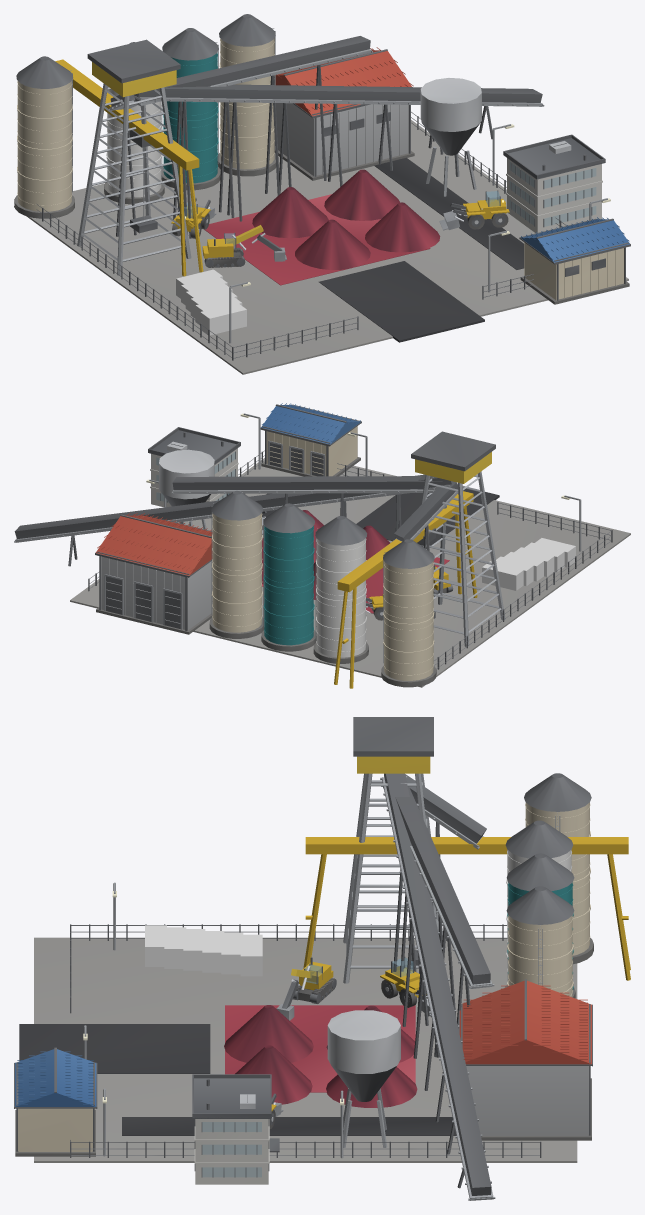
The model's file is Depot_P3.fbx.
3 renders of one model, top to bottom at view 1: azimuth 30°, elevation 25°; view 2: azimuth 150°, elevation 25°; view 3: azimuth 270°, elevation 25°, orthographic. The views are drawn at different scales.
Visible parts, largest first — view 1: Depot.Yard, Depot.Shed1, Depot.Tower, Depot.ConvMain, Depot.Silo0, Depot.Office, Depot.Shed2, Depot.ConvA, Depot.Silo3, Depot.Silo2, Depot.Hopper, Depot.Gantry (+11 smaller); view 2: Depot.Yard, Depot.Shed1, Depot.Tower, Depot.Silo2, Depot.Silo3, Depot.Silo0, Depot.Silo1, Depot.Shed2, Depot.ConvA, Depot.ConvMain, Depot.Gantry, Depot.Containers (+5 smaller); view 3: Depot.Yard, Depot.Shed1, Depot.ConvMain, Depot.Tower, Depot.Office, Depot.Shed2, Depot.Silo3, Depot.ConvA, Depot.Hopper, Depot.Gantry, Depot.Silo0, Depot.Containers (+9 smaller).
Boxes of the visible parts, bbox=[...] form: Depot.Yard: bbox=[14, 120, 628, 374]; Depot.Shed1: bbox=[274, 47, 414, 180]; Depot.Tower: bbox=[77, 39, 191, 275]; Depot.ConvMain: bbox=[133, 84, 544, 238]; Depot.Silo0: bbox=[14, 56, 74, 218]; Depot.Office: bbox=[503, 134, 605, 233]; Depot.Shed2: bbox=[519, 217, 630, 304]; Depot.ConvA: bbox=[134, 36, 372, 235]; Depot.Silo3: bbox=[217, 14, 276, 176]; Depot.Silo2: bbox=[161, 28, 220, 190]; Depot.Hopper: bbox=[420, 78, 481, 196]; Depot.Gantry: bbox=[55, 59, 203, 276]; Depot.Yard: bbox=[70, 458, 630, 687]; Depot.Shed1: bbox=[95, 513, 212, 634]; Depot.Tower: bbox=[411, 431, 505, 646]; Depot.Silo2: bbox=[261, 503, 316, 651]; Depot.Silo3: bbox=[209, 491, 264, 638]; Depot.Silo0: bbox=[381, 539, 436, 687]; Depot.Silo1: bbox=[313, 516, 368, 663]; Depot.Shed2: bbox=[260, 403, 361, 476]; Depot.ConvA: bbox=[171, 476, 446, 538]; Depot.ConvMain: bbox=[14, 474, 452, 566]; Depot.Gantry: bbox=[334, 491, 477, 688]; Depot.Containers: bbox=[482, 538, 575, 590]; Depot.Yard: bbox=[19, 937, 577, 1162]; Depot.Shed1: bbox=[458, 979, 592, 1140]; Depot.ConvMain: bbox=[380, 773, 495, 1200]; Depot.Tower: bbox=[343, 717, 442, 983]; Depot.Office: bbox=[192, 1074, 279, 1184]; Depot.Shed2: bbox=[14, 1047, 97, 1156]; Depot.Silo3: bbox=[506, 886, 574, 997]; Depot.ConvA: bbox=[381, 781, 494, 1057]; Depot.Hopper: bbox=[327, 1010, 400, 1147]; Depot.Gantry: bbox=[303, 837, 630, 980]; Depot.Silo0: bbox=[524, 773, 593, 964]; Depot.Containers: bbox=[145, 925, 262, 976].
Bounding box in the file's own units: 9111 × 3466 × 8406.
